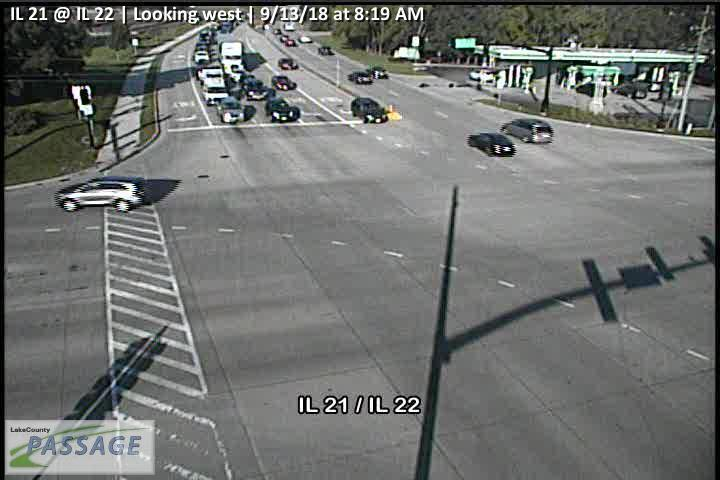SUV: (54, 176, 153, 211), (501, 118, 553, 144), (351, 97, 388, 124), (263, 97, 295, 122), (202, 77, 229, 105), (216, 97, 244, 122), (241, 77, 269, 101)
Sedan: (468, 132, 516, 157), (272, 75, 294, 90), (348, 71, 373, 84), (367, 66, 390, 79), (278, 58, 297, 70)
